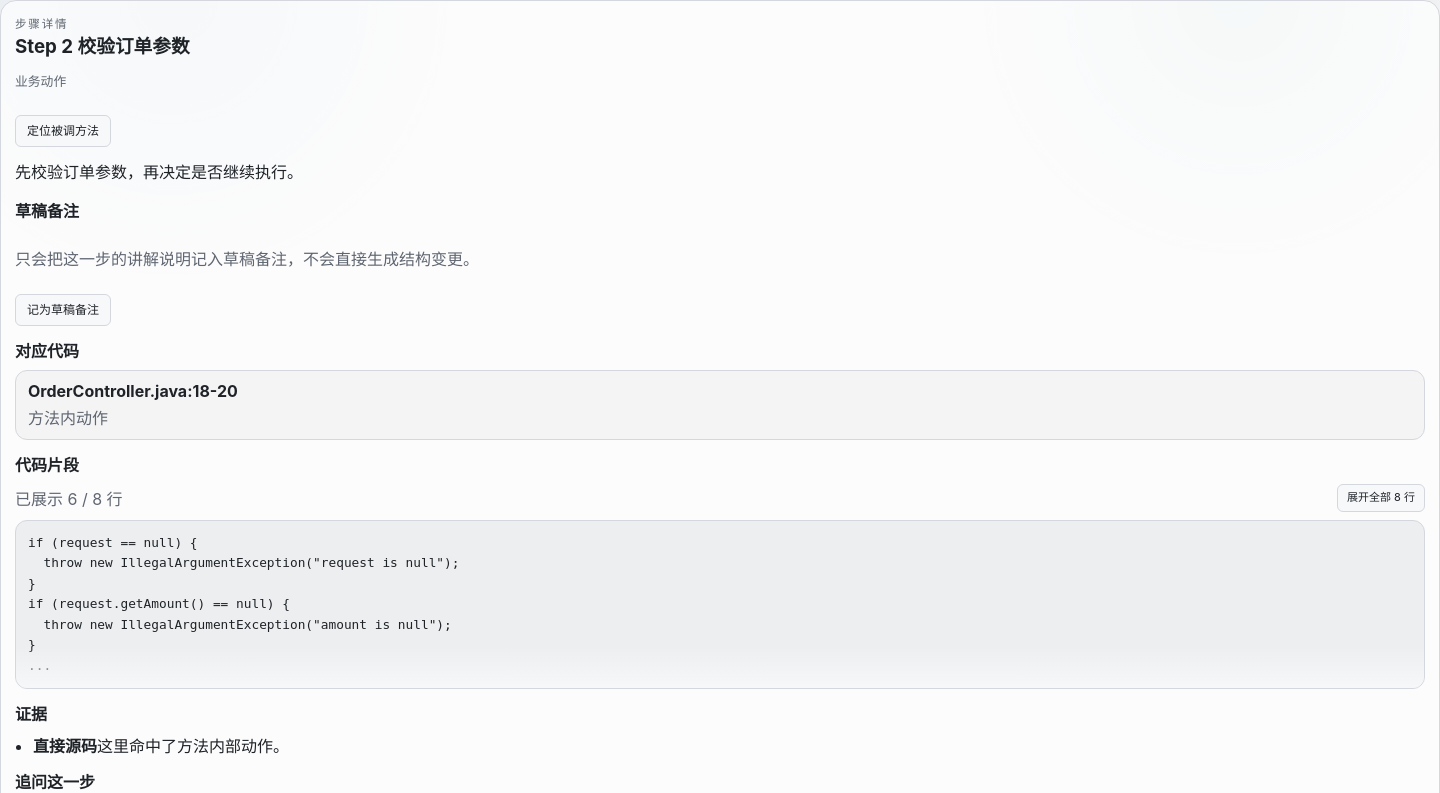
it: StepDetail › collapses long code snippets by default and lets the reader expand them on demand
expect the text with class "workbench-code-snippet" is shown: met, box [15,520,1425,689]
expect the text with class "workbench-code-snippet" shows "if (request == null) {": met, box [28,535,460,673]
Click the button "展开全部 8 行".
click(1381, 498)  # box [1337,484,1425,512]
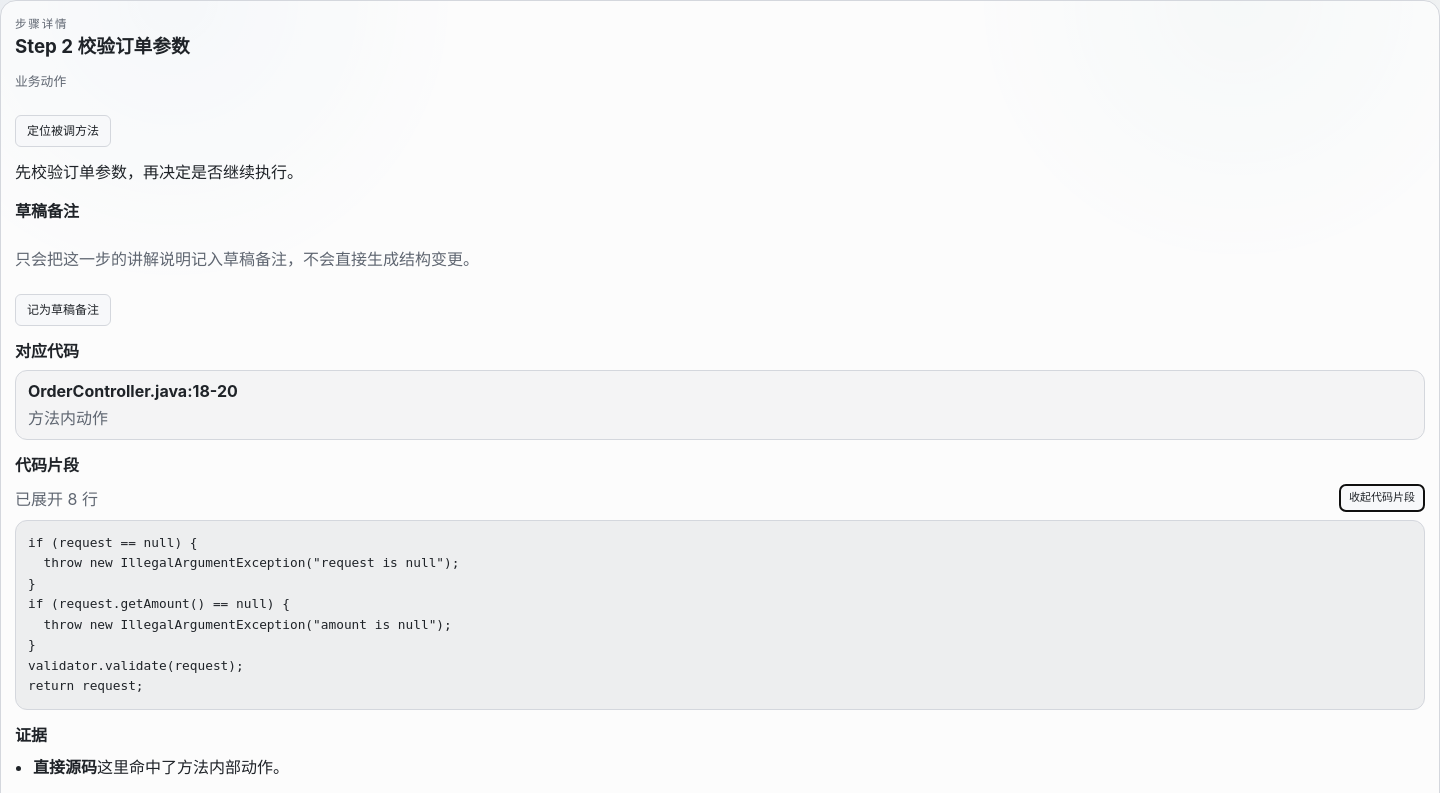
expect the text with class "workbench-code-snippet" shows "return request;": met, box [28,535,460,693]
expect the button "收起代码片段" is shown: met, box [1339,484,1425,512]
